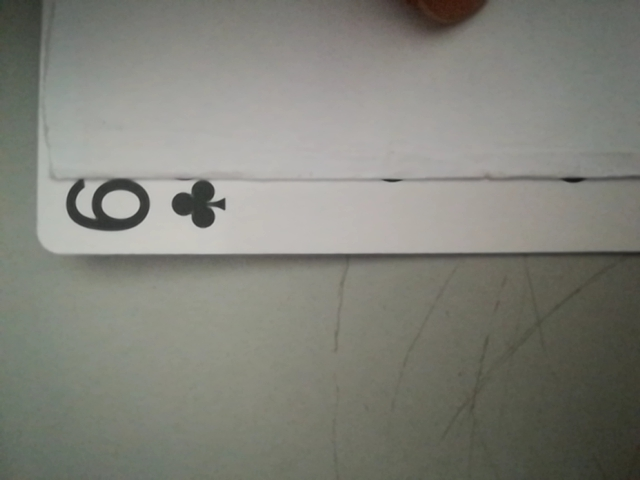mh 6: (49, 169, 233, 248)
